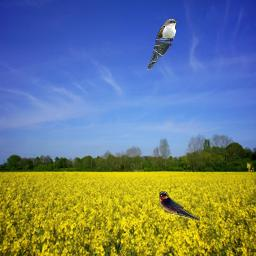Cuckoo: (146, 18, 178, 70)
Swallow: (159, 191, 200, 220)
